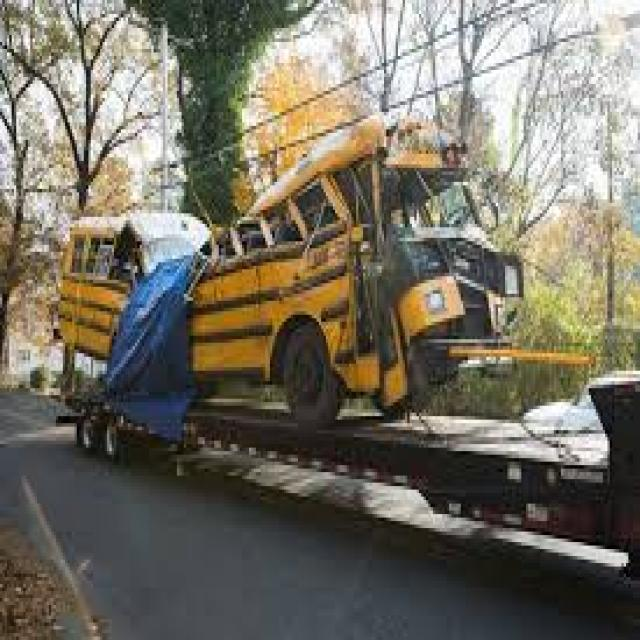accident: (57, 122, 542, 465)
